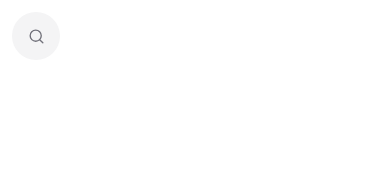
Test: permite desplazar el escritorio y cerrar la búsqueda con Escape
The image size is (391, 172).
Step 1. Click the button named "Buscar servicios" → click(36, 36), box [12,12,60,60]
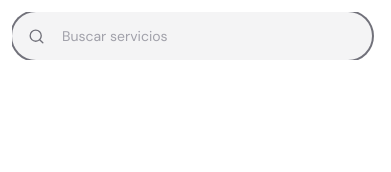
Step 2. Press Escape in the field, box [60,26,372,46]
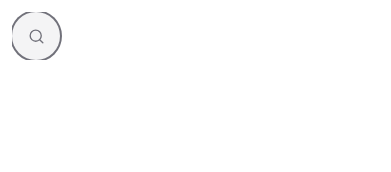
Now the button named "Buscar servicios" is collapsed, box [12,12,60,60]
